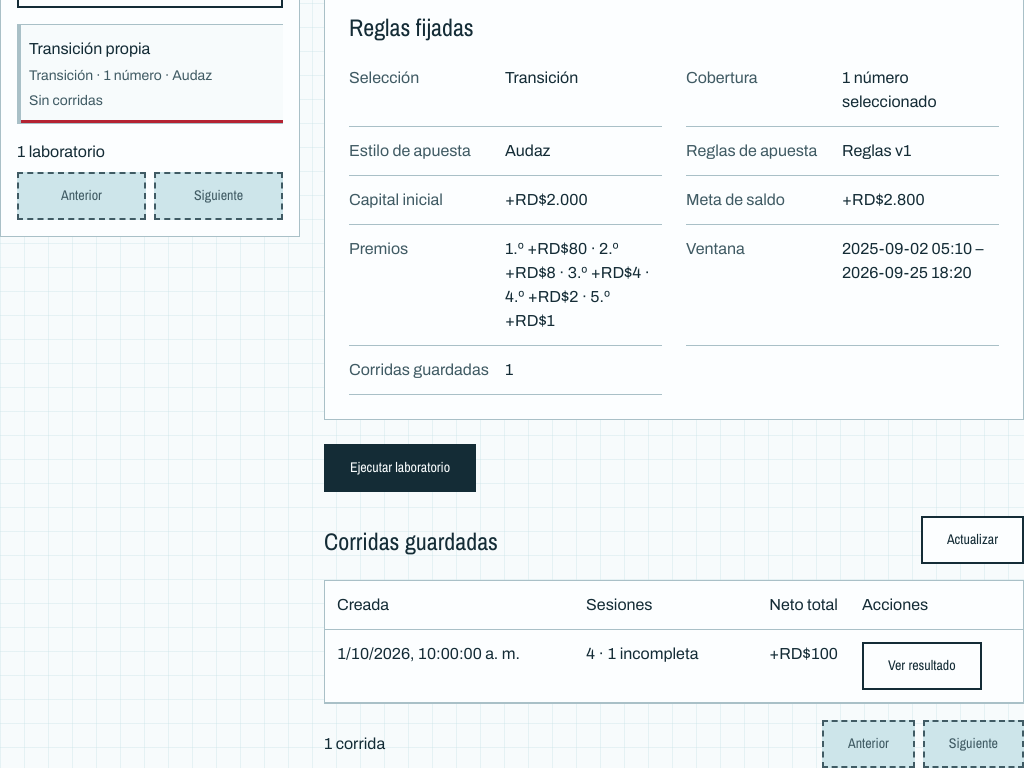
Scenario: laboratory workspace › shows the certified three-value wallet and keeps existing metrics in their disclosures
The image size is (1024, 768).
(page scrolled)
Click the button "Ver resultado" at (922, 666), box [862,642,982,690]
(page scrolled)
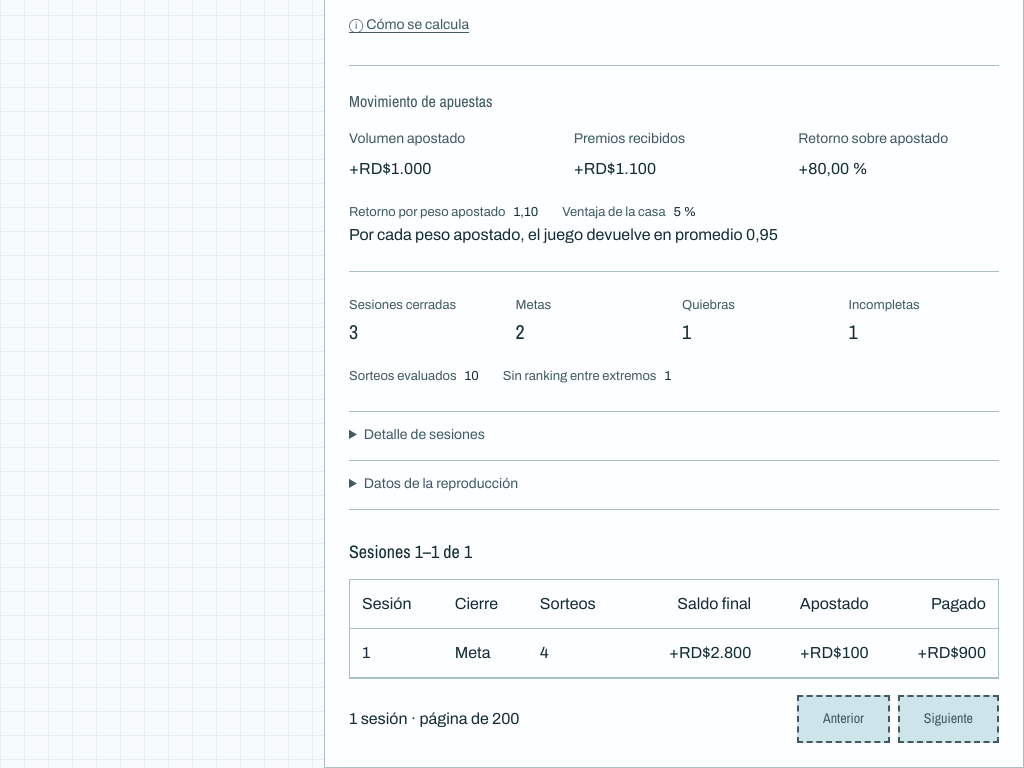
Expected: the text "Neto total" is not shown
Now the heading "Movimiento de apuestas" is shown, box [349,90,493,112]
